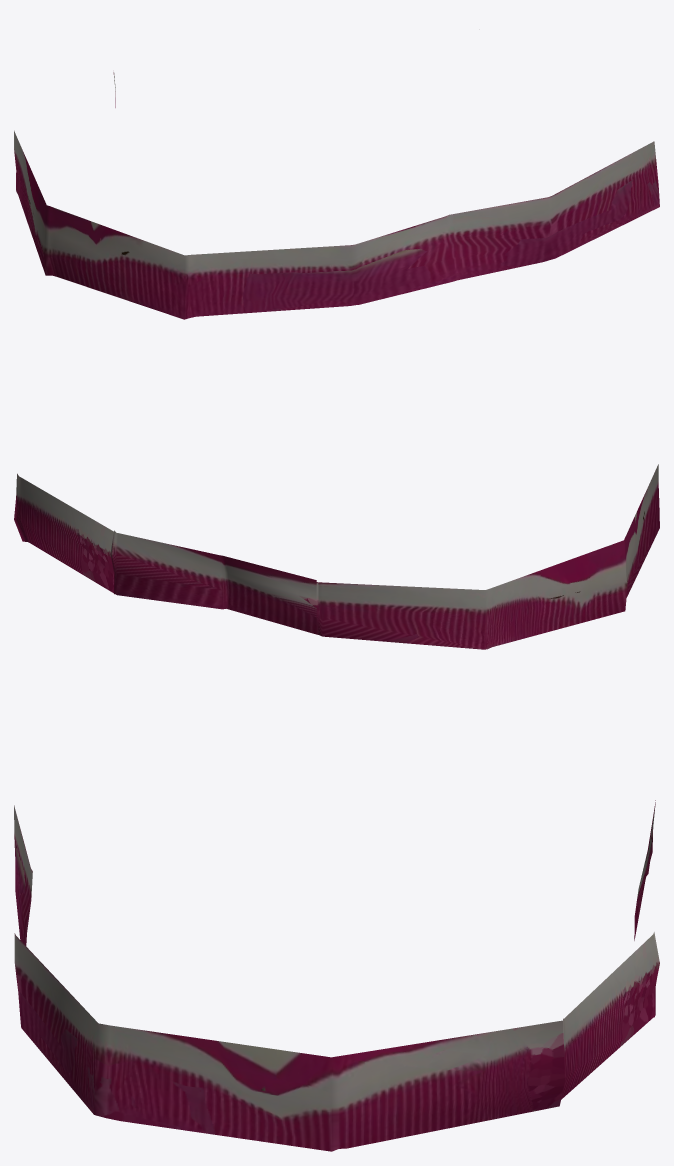
3 views of the same model, one above another, from view 1: azimuth 30°, elevation 25°; view 2: azimuth 150°, elevation 25°; view 3: azimuth 270°, elevation 25° (orthographic). The views are drawn at different scales.
Visible parts, largest first — view 1: geometry_0; view 2: geometry_0; view 3: geometry_0.
Boxes of the visible parts, <box> form: geometry_0: <box>14,72,659,319</box>; geometry_0: <box>14,464,659,649</box>; geometry_0: <box>14,800,659,1151</box>.
Bounding box in the file's own units: 0.396 × 0.0482 × 0.2836.
1 material, 1 textured.
